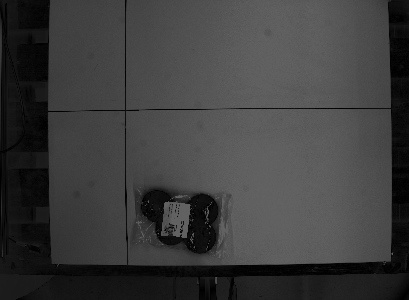t1: (128, 177, 233, 262)
